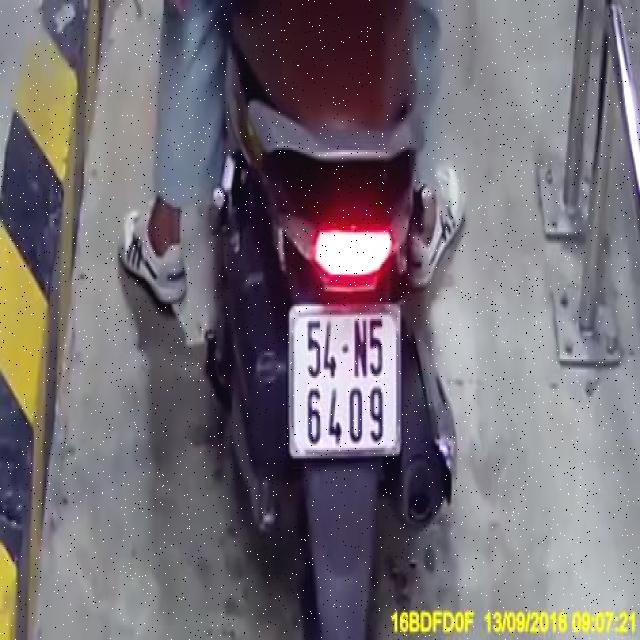0: (348, 385, 364, 448)
4: (327, 386, 343, 447), (323, 319, 338, 381)
5: (368, 316, 384, 380), (306, 320, 322, 378)
6: (306, 386, 322, 445)
9: (368, 384, 384, 446)
N: (352, 316, 368, 380)
